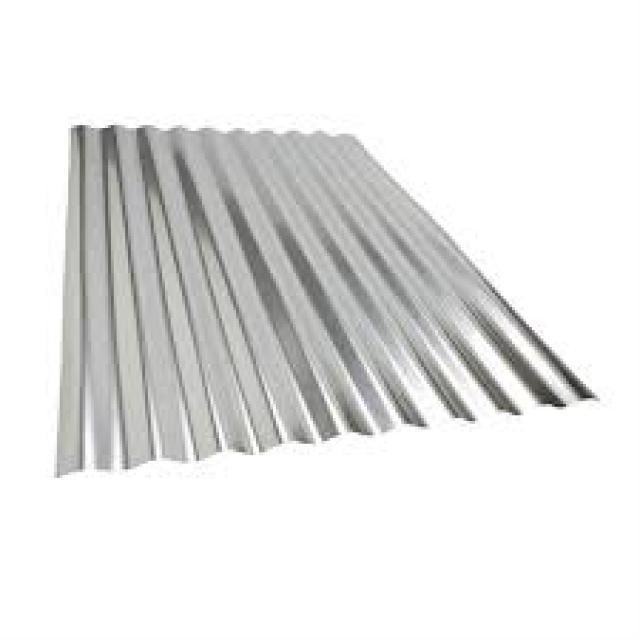Dry Waste: (0, 195, 526, 530)
